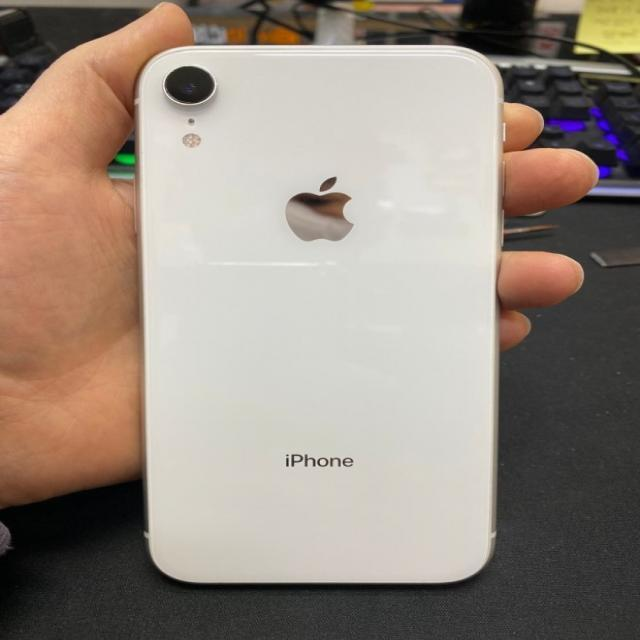phone: (136, 46, 496, 588)
